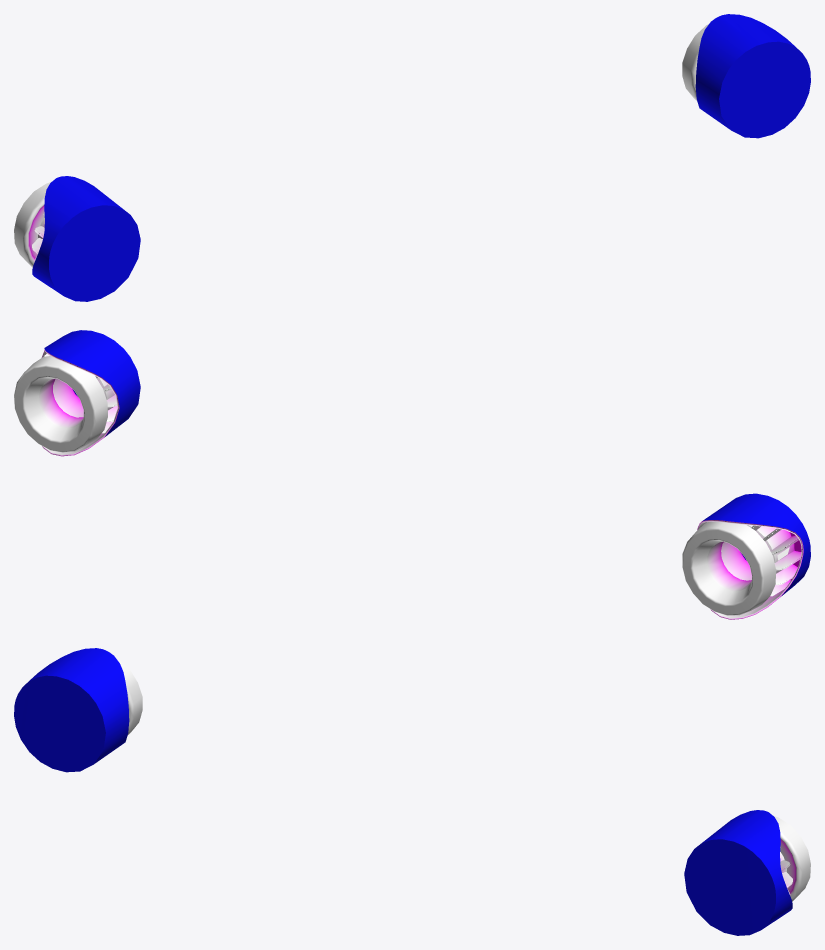
File: Car_Ford_GT_2017_TailLights_SetA.fbx
3 renders of one model, top to bottom at view 1: azimuth 30°, elevation 25°; view 2: azimuth 150°, elevation 25°; view 3: azimuth 330°, elevation 25°, orthographic.
Visible parts, largest first — view 1: TailLightL 6, TailLightR 6; view 2: TailLightR 6, TailLightL 6; view 3: TailLightR 6, TailLightL 6.
Boxes of the visible parts, x1,y1,x2,y2 form: TailLightL 6: (682, 14, 810, 138); TailLightR 6: (14, 176, 140, 301); TailLightR 6: (682, 493, 810, 619); TailLightL 6: (14, 330, 140, 456); TailLightR 6: (14, 648, 142, 772); TailLightL 6: (684, 810, 810, 935).
Size of the model in its own units: 1.72 by 0.2076 by 0.1636.
